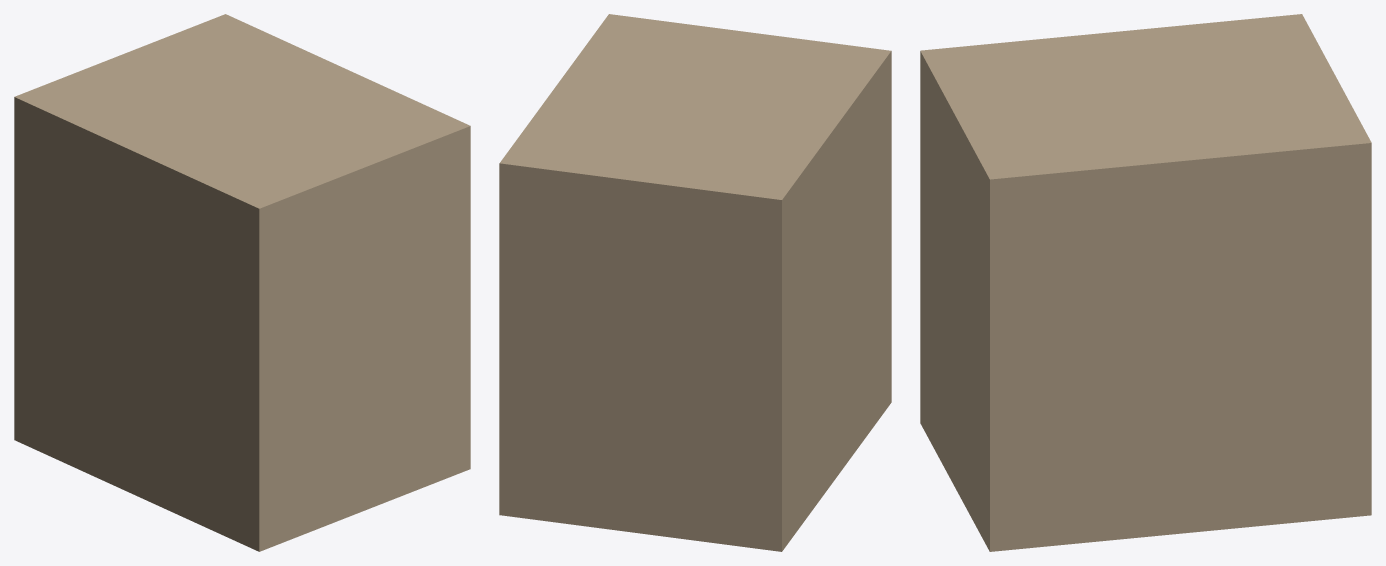
The model's file is bld_109034881.dae.
3 renders of one model, left to right at view 1: azimuth 30°, elevation 25°; view 2: azimuth 150°, elevation 25°; view 3: azimuth 270°, elevation 25°, orthographic. The views are drawn at different scales.
Parts seen in each view (by area): view 1: bld_109034881; view 2: bld_109034881; view 3: bld_109034881.
Part boxes in pixels (x1,y1,x2,y2): bld_109034881: [14, 14, 470, 551]; bld_109034881: [499, 14, 891, 551]; bld_109034881: [920, 14, 1371, 551].
Bounding box in the file's own units: 7.63 × 8.79 × 8.
